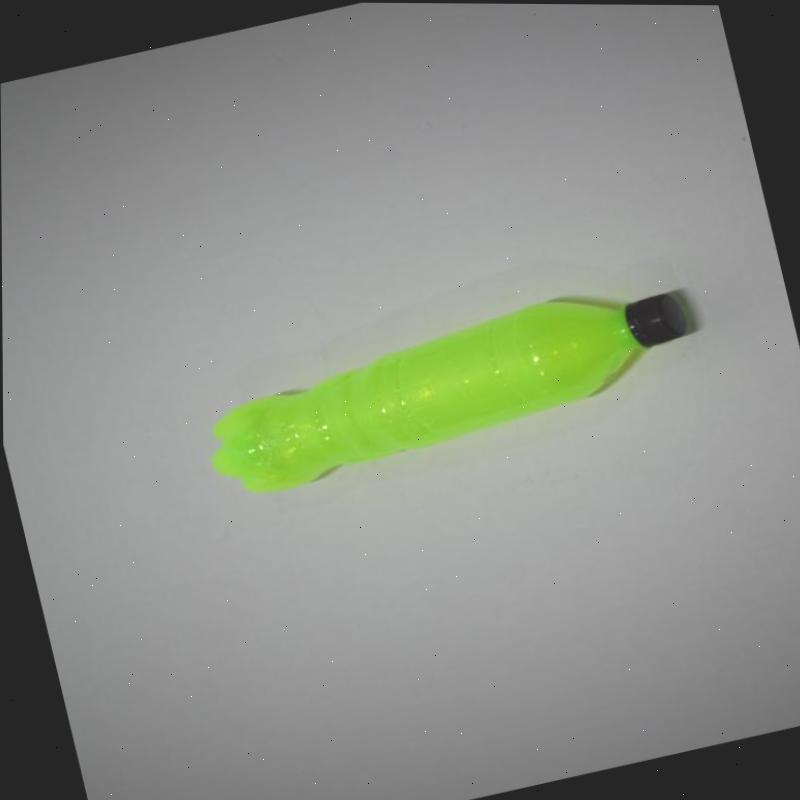botella: (191, 263, 708, 505)
